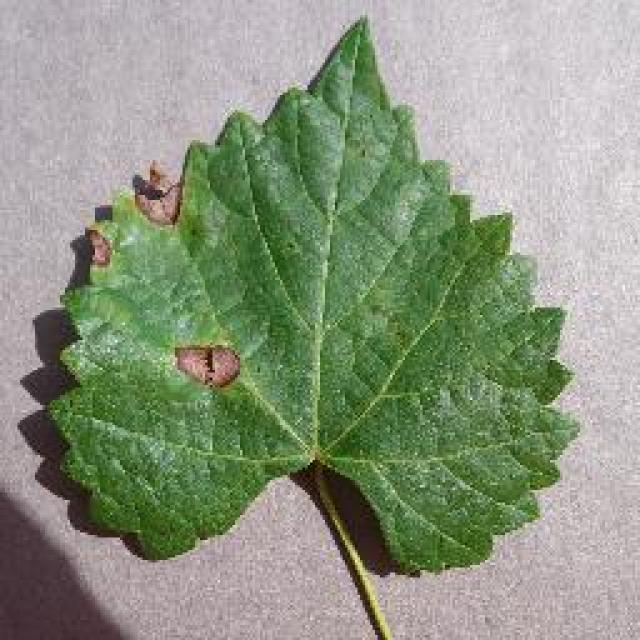Grape___Black_rot: (34, 13, 587, 638)
